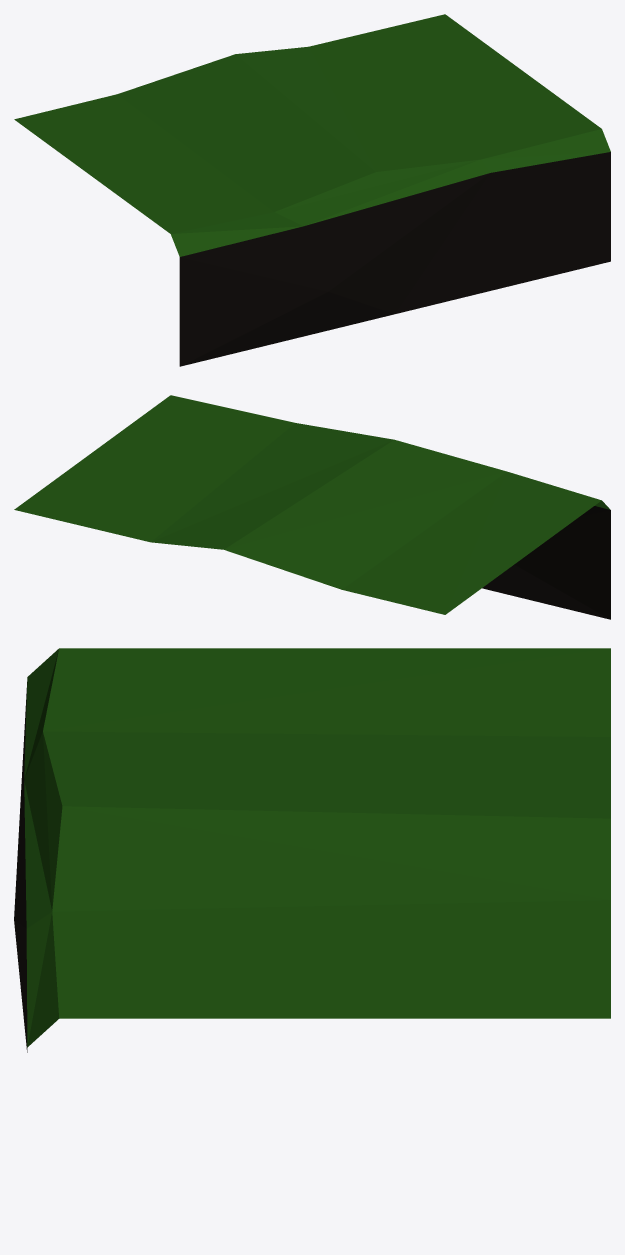
Rendered from 2D_Ground_Top_2A.fbx.
3 views of the same model, one above another, from view 1: azimuth 30°, elevation 25°; view 2: azimuth 150°, elevation 25°; view 3: azimuth 270°, elevation 25° (orthographic). The views are drawn at different scales.
Visible parts, largest first — view 1: 2D_Ground_Top_2A; view 2: 2D_Ground_Top_2A; view 3: 2D_Ground_Top_2A.
Boxes of the visible parts, box(x1,y1,x2,y2) form: 2D_Ground_Top_2A: box(14, 14, 610, 366); 2D_Ground_Top_2A: box(14, 395, 610, 619); 2D_Ground_Top_2A: box(14, 648, 610, 1052).
Bounding box in the file's own units: 1303 × 396 × 887.
